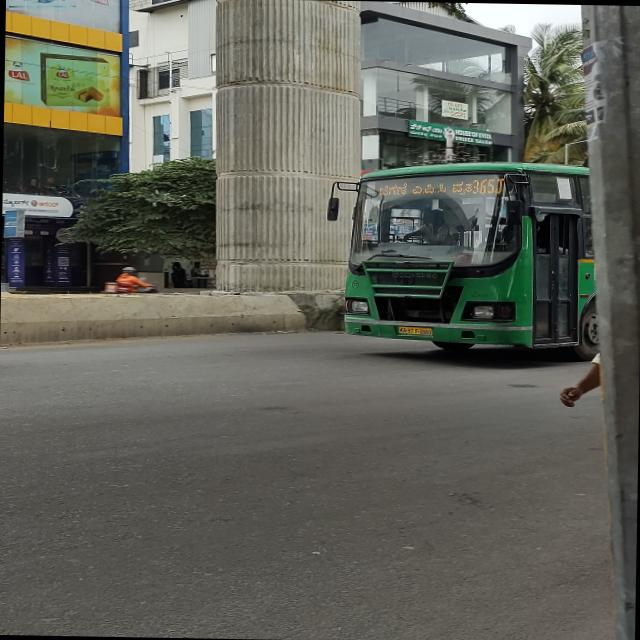bus: (320, 160, 622, 351)
display: (376, 175, 508, 197)
dnumber: (472, 177, 504, 195)
